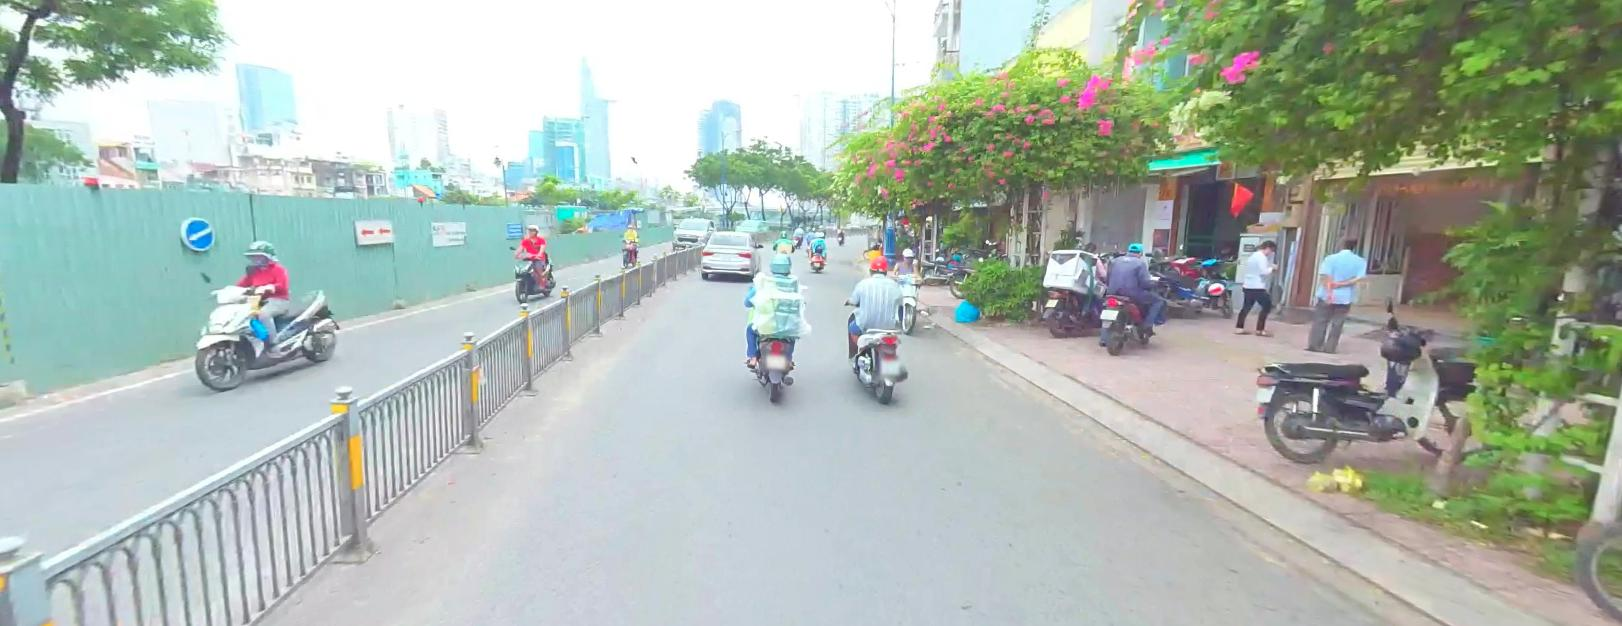Hieu lenh: (179, 215, 214, 249)
